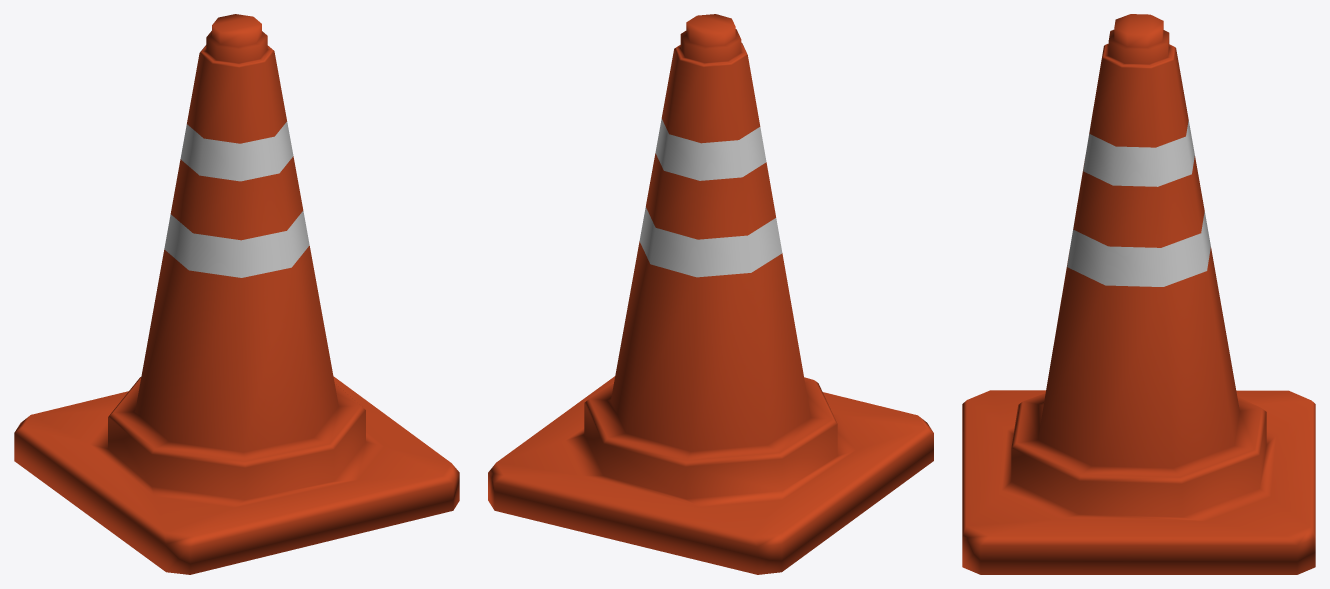
Rendered from CJ_Labacorn_SM.fbx.
The picture shows the model from 3 angles, left to right: view 1: azimuth 30°, elevation 25°; view 2: azimuth 150°, elevation 25°; view 3: azimuth 270°, elevation 25°; orthographic projection. The views are drawn at different scales.
Visible parts, largest first — view 1: CJ_Labacorn_SM; view 2: CJ_Labacorn_SM; view 3: CJ_Labacorn_SM.
Part boxes in pixels (<box>): CJ_Labacorn_SM: <box>14,14,459,574</box>; CJ_Labacorn_SM: <box>488,14,933,574</box>; CJ_Labacorn_SM: <box>962,14,1315,574</box>.
Size of the model in its own units: 45.93 by 68.2 by 45.93.
